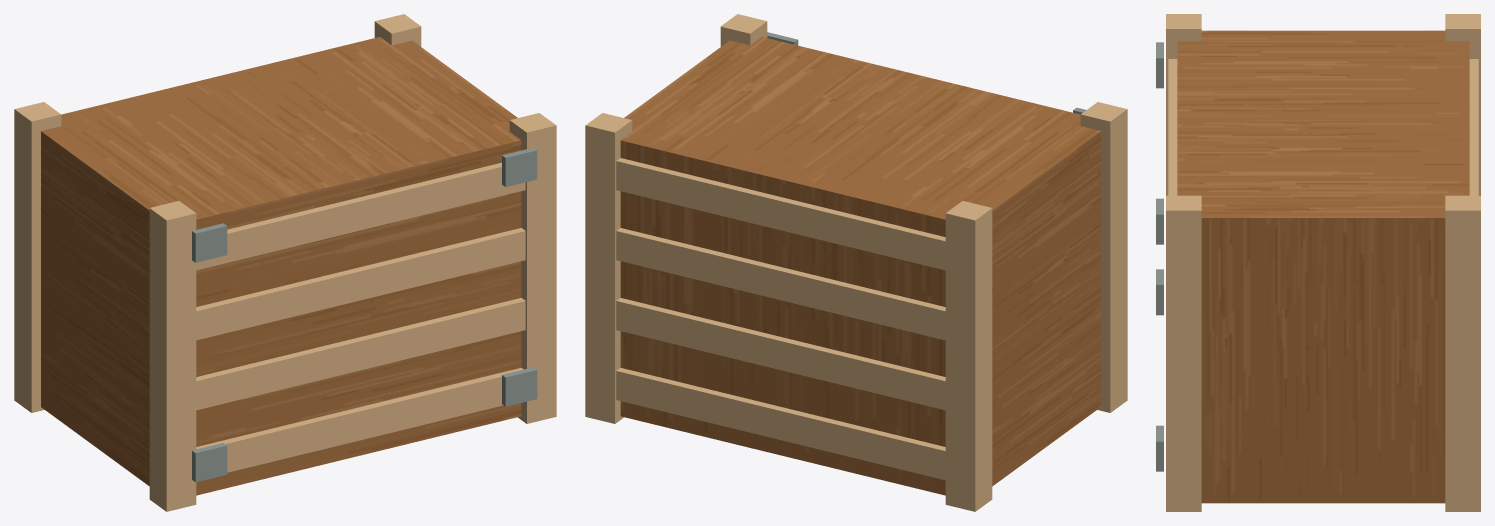
File: crate-standard.glb
3 renders of one model, left to right at view 1: azimuth 30°, elevation 25°; view 2: azimuth 150°, elevation 25°; view 3: azimuth 270°, elevation 25°, orthographic. The views are drawn at different scales.
Parts seen in each view (by area): view 1: crate-standard; view 2: crate-standard; view 3: crate-standard.
Part boxes in pixels (left/top/right/bottom): crate-standard: left=14, top=14, right=556, bottom=511; crate-standard: left=585, top=14, right=1127, bottom=511; crate-standard: left=1156, top=14, right=1480, bottom=511.
Bounding box in the file's own units: 2.1 × 1.5 × 1.46.
3 materials, 1 textured.
